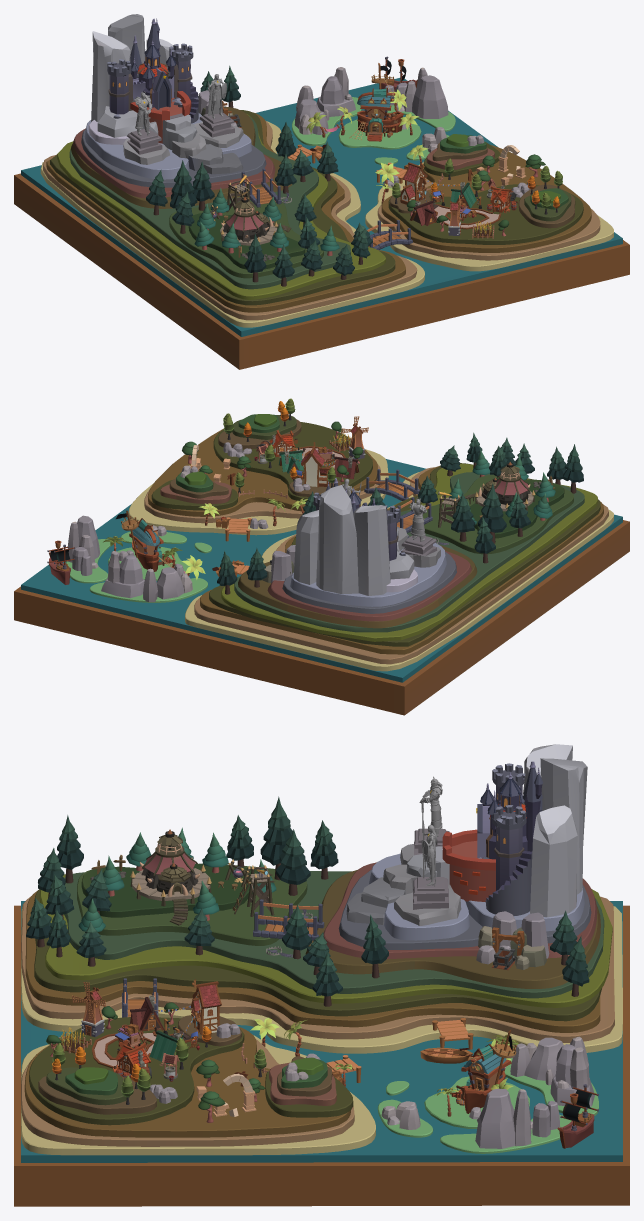
File: KingdomOfTheWicked(04_03).fbx
3 views of the same model, one above another, from view 1: azimuth 30°, elevation 25°; view 2: azimuth 150°, elevation 25°; view 3: azimuth 270°, elevation 25° (orthographic). The views are drawn at different scales.
Visible parts, largest first — view 1: Cylinder.004, Cylinder.047, Cylinder.049, Cylinder.035, Cylinder.048, Cylinder.046, Cylinder.034; view 2: Cylinder.004, Cylinder.047, Cylinder.049, Cylinder.035, Cylinder.048, Cylinder.046, Cylinder.054, Cylinder.055, Cylinder.056; view 3: Cylinder.004, Cylinder.047, Cylinder.049, Cylinder.035, Cylinder.056, Cylinder.048, Cylinder.053, Cylinder.054, Cylinder.050, Cylinder.046, Cylinder.052, Cylinder.027 (+8 smaller).
Boxes of the visible parts, x1,y1,x2,y2 form: Cylinder.004: (14, 14, 629, 369); Cylinder.047: (170, 160, 197, 208); Cylinder.049: (192, 161, 214, 210); Cylinder.035: (244, 233, 266, 282); Cylinder.048: (146, 169, 167, 215); Cylinder.046: (172, 191, 194, 233); Cylinder.034: (272, 244, 294, 286); Cylinder.004: (14, 414, 629, 715); Cylinder.047: (477, 483, 506, 543); Cylinder.049: (451, 493, 475, 541); Cylinder.035: (563, 444, 583, 493); Cylinder.048: (474, 516, 495, 563); Cylinder.046: (509, 493, 530, 536); Cylinder.054: (217, 551, 237, 594); Cylinder.055: (246, 548, 267, 587); Cylinder.056: (341, 416, 368, 459); Cylinder.004: (14, 744, 629, 1206); Cylinder.047: (260, 796, 292, 880); Cylinder.049: (276, 829, 310, 895); Cylinder.035: (57, 815, 83, 883); Cylinder.056: (72, 982, 105, 1037); Cylinder.048: (310, 820, 338, 879); Cylinder.053: (361, 914, 388, 978); Cylinder.054: (562, 936, 589, 996); Cylinder.050: (282, 904, 311, 959); Cylinder.046: (226, 815, 253, 867); Cylinder.052: (312, 952, 342, 1006); Cylinder.027: (26, 898, 51, 947).
Size of the model in its own units: 242 by 111 by 242.
Materials: 1 (1 with a texture image).
